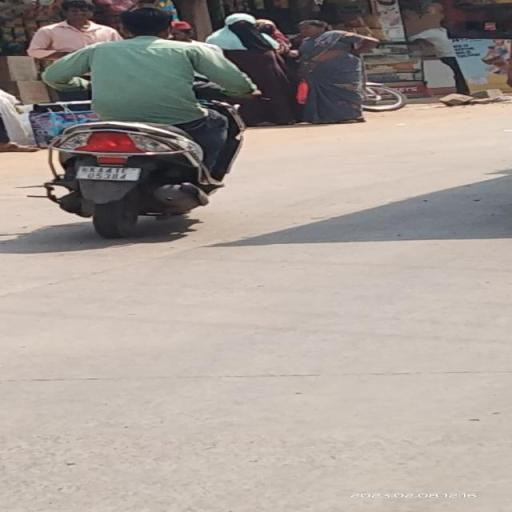bike: (30, 1, 264, 240)
numberplate: (79, 164, 140, 185)
withouthelmet: (124, 7, 174, 36)
